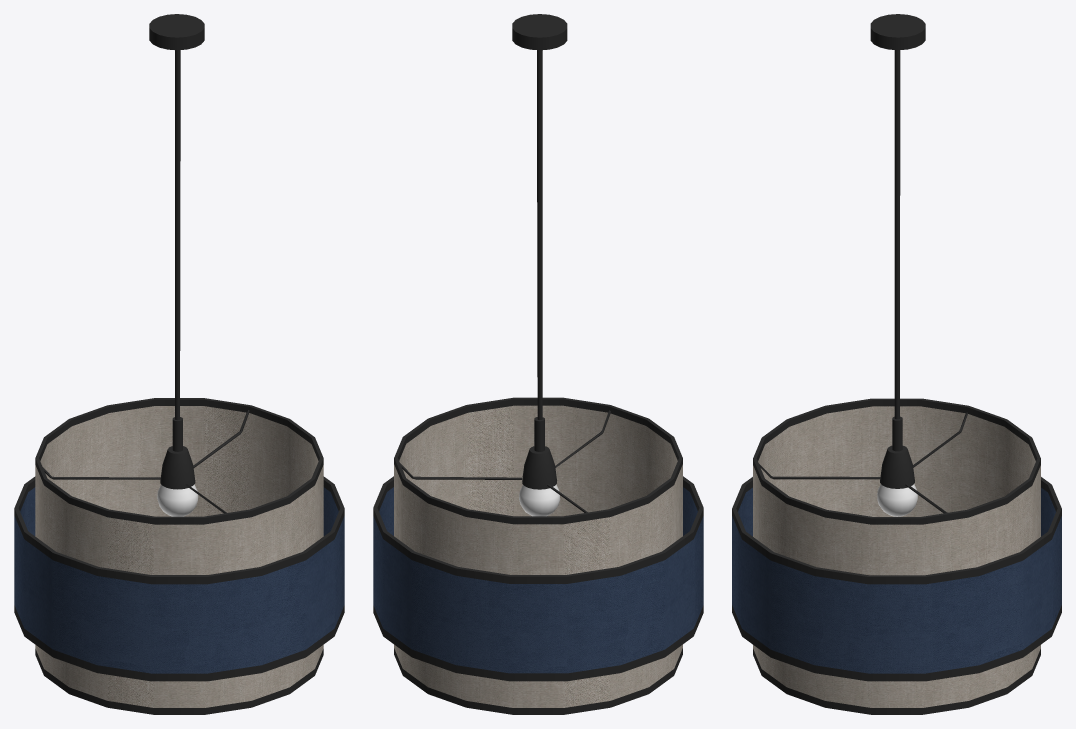
Rendered from Ceiling Lamp 25.FBX.
3 renders of one model, left to right at view 1: azimuth 30°, elevation 25°; view 2: azimuth 150°, elevation 25°; view 3: azimuth 270°, elevation 25°, orthographic.
Parts seen in each view (by area): view 1: Ceiling lamp 25; view 2: Ceiling lamp 25; view 3: Ceiling lamp 25.
Part boxes in pixels (x1,y1,x2,y2): Ceiling lamp 25: [14, 14, 344, 714]; Ceiling lamp 25: [373, 14, 703, 714]; Ceiling lamp 25: [732, 14, 1061, 714].
Bounding box in the file's own units: 35.09 × 74.91 × 35.63.
Materials: 4 (3 with a texture image).
